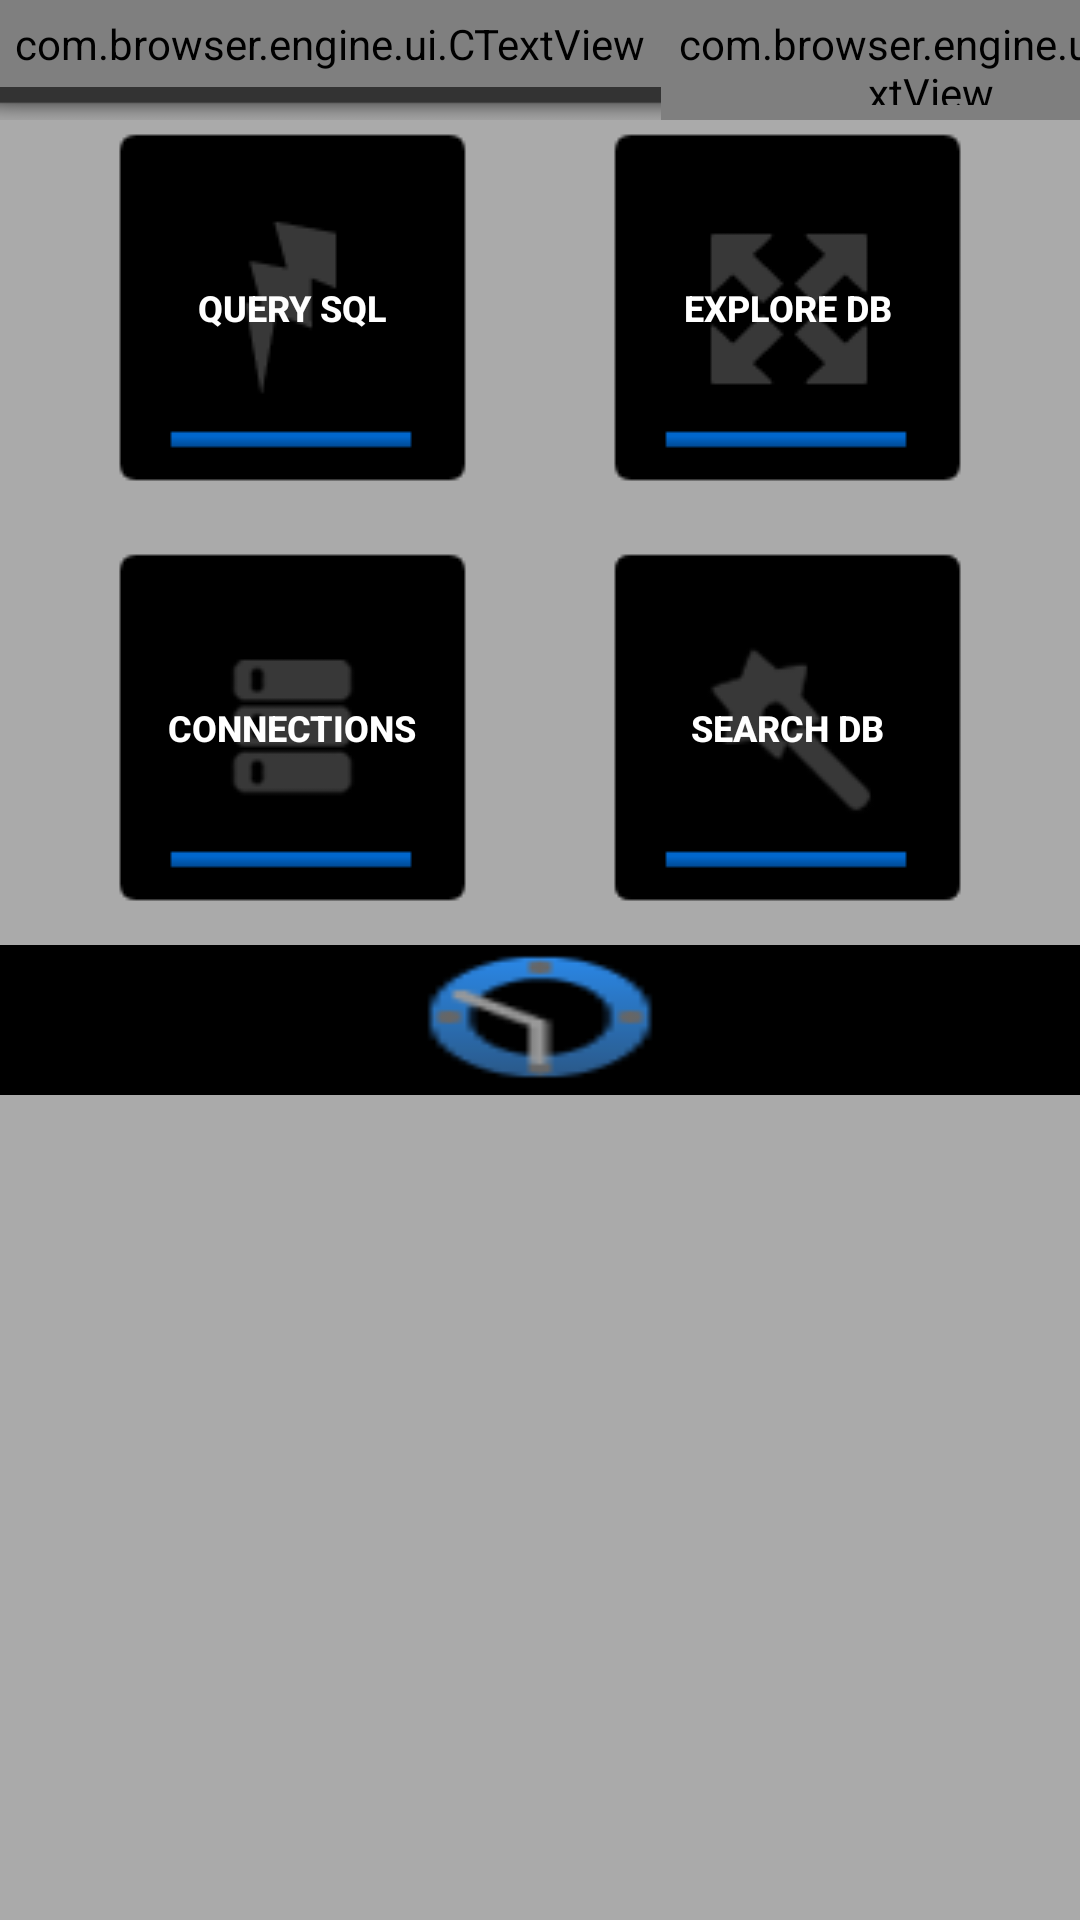

Where to tap for icons on this 1080w x 1920h app screen, as (x=x, y=y):
latest: (x=540, y=1017)
